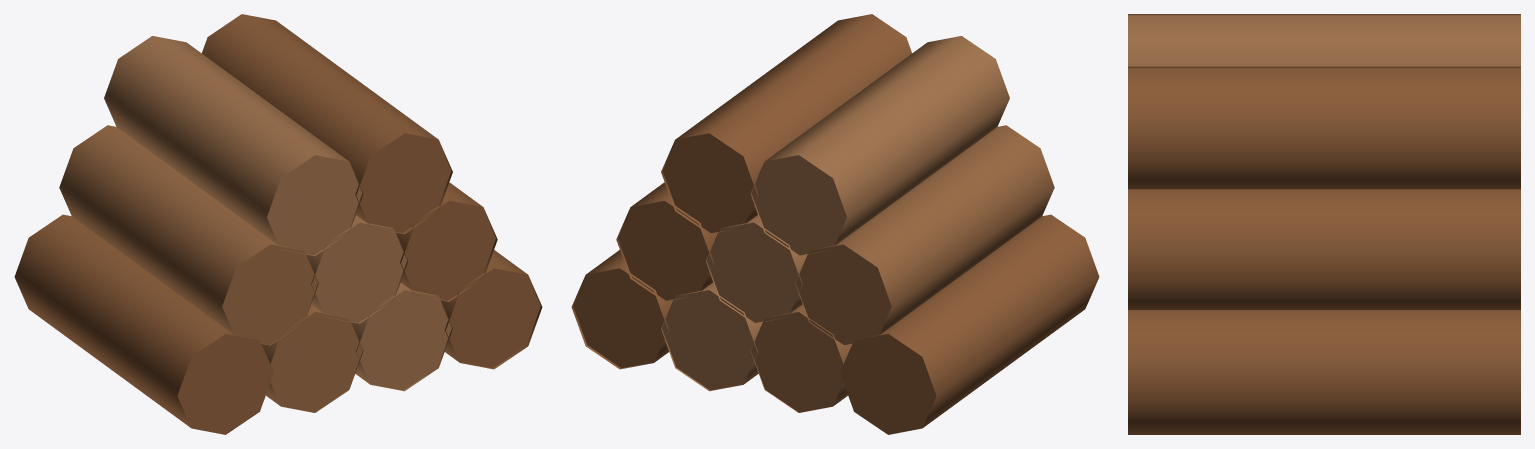
File: woodpile_split.fbx
The picture shows the model from 3 angles, left to right: view 1: azimuth 30°, elevation 25°; view 2: azimuth 150°, elevation 25°; view 3: azimuth 270°, elevation 25°; orthographic projection. The views are drawn at different scales.
Visible parts, largest first — view 1: woodpile_split; view 2: woodpile_split; view 3: woodpile_split.
Part boxes in pixels (left/top/right/bottom): woodpile_split: left=14, top=14, right=542, bottom=434; woodpile_split: left=571, top=14, right=1099, bottom=434; woodpile_split: left=1128, top=14, right=1520, bottom=434.
Size of the model in its own units: 0.1522 by 0.1028 by 0.1176.
